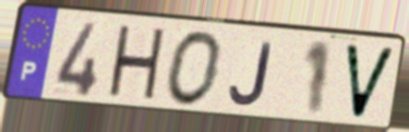1: (300, 40, 331, 120)
4: (53, 21, 101, 100)
H: (104, 22, 169, 107)
J: (227, 39, 276, 108)
O: (164, 28, 226, 110)
V: (341, 41, 399, 123)
